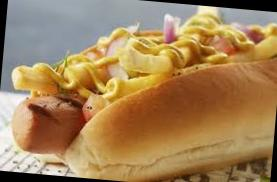Completos: (4, 0, 277, 182)
